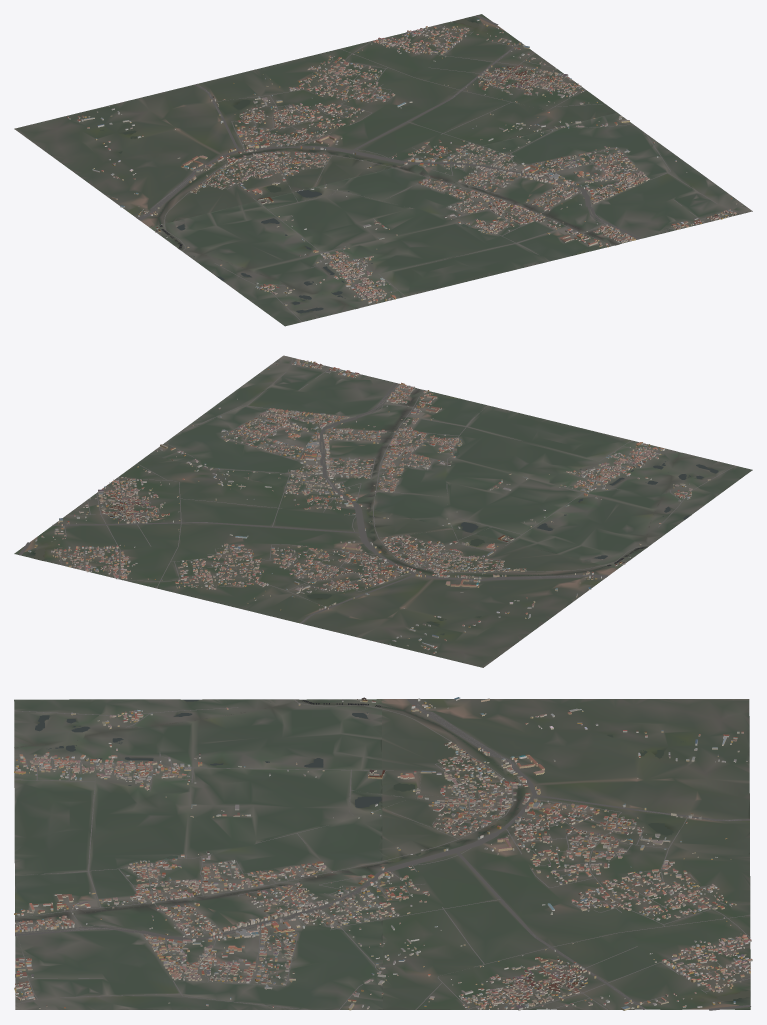
The picture shows the model from 3 angles, top to bottom: view 1: azimuth 30°, elevation 25°; view 2: azimuth 150°, elevation 25°; view 3: azimuth 270°, elevation 25°; orthographic projection. The views are drawn at different scales.
Visible parts, largest first — view 1: ground, buildings, roads, water; view 2: ground, buildings, roads, water; view 3: ground, buildings, roads, water.
Part boxes in pixels (bbox=[...]): ground: bbox=[14, 14, 752, 326]; buildings: bbox=[67, 19, 742, 305]; roads: bbox=[137, 15, 743, 321]; water: bbox=[100, 19, 614, 313]; ground: bbox=[14, 355, 752, 667]; buildings: bbox=[28, 359, 710, 653]; roads: bbox=[18, 357, 735, 623]; water: bbox=[33, 390, 718, 635]; ground: bbox=[14, 699, 750, 1009]; buildings: bbox=[14, 697, 752, 1010]; roads: bbox=[14, 699, 750, 1010]; water: bbox=[14, 699, 750, 1001].
Bounding box in the file's own units: 2820 × 23.59 × 2818.
